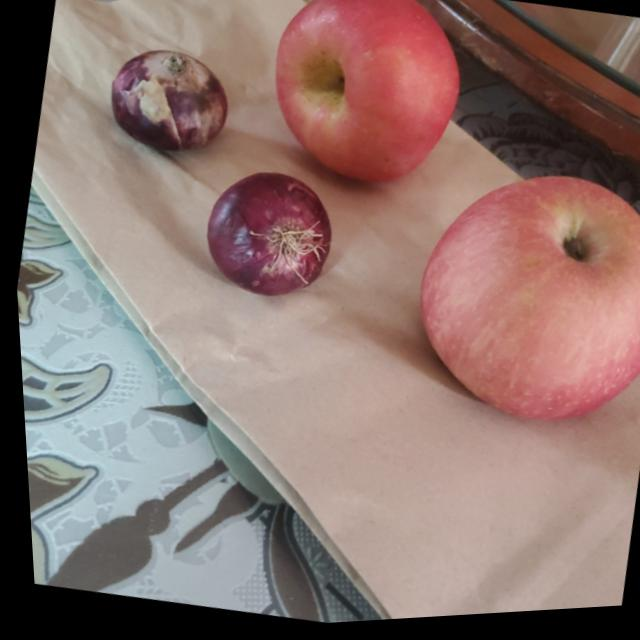apple: (393, 152, 640, 451), (248, 0, 480, 208)
onion: (191, 162, 344, 314), (99, 39, 238, 167)
